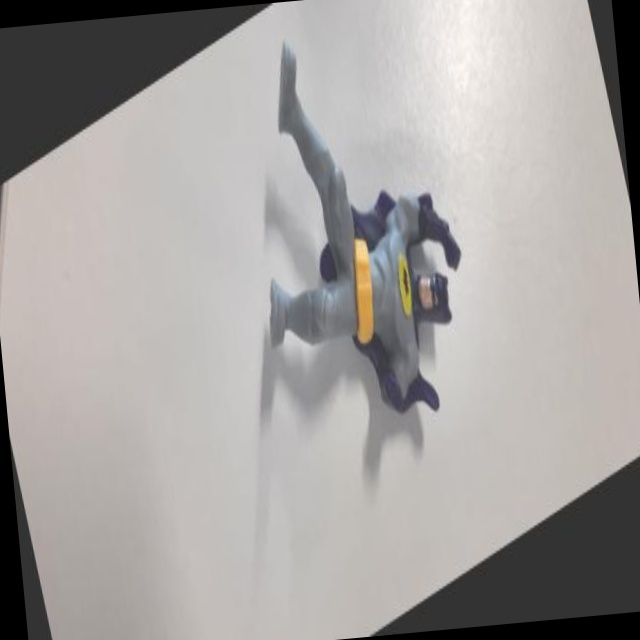Batman: (206, 0, 498, 506)
